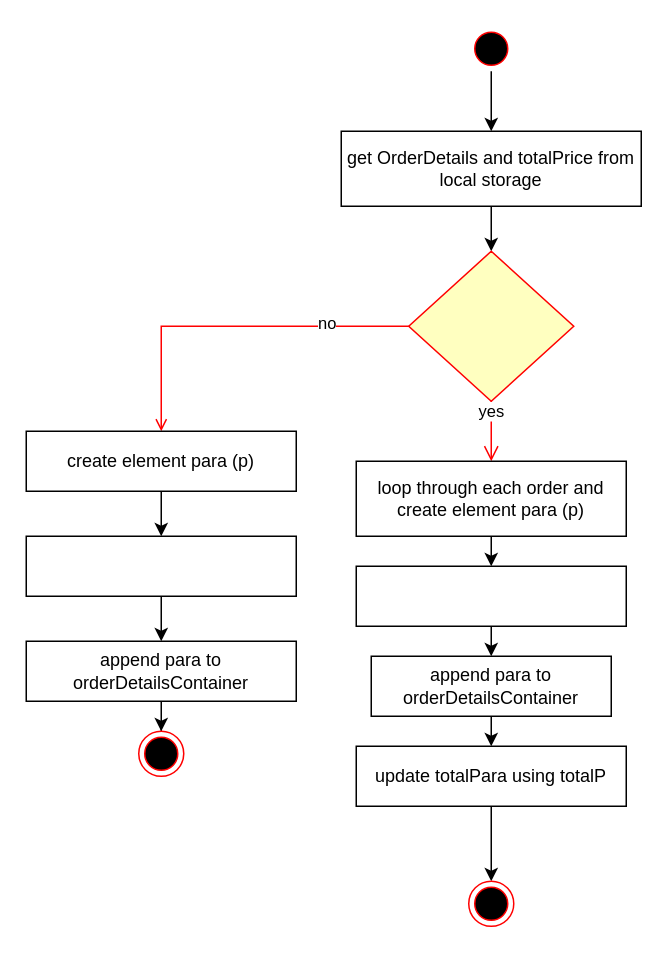
This 668x953 diagram has some shape labels left out. The shapes that lost their labels are listed below. From the top down, each one's centre as x and y in pixels, then its label:
point (490, 325): if index = 0 or index = 1
point (160, 565): give text content "No orders"
point (490, 595): give text content "product-amount-price"
